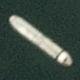ship: (6, 0, 73, 30)
